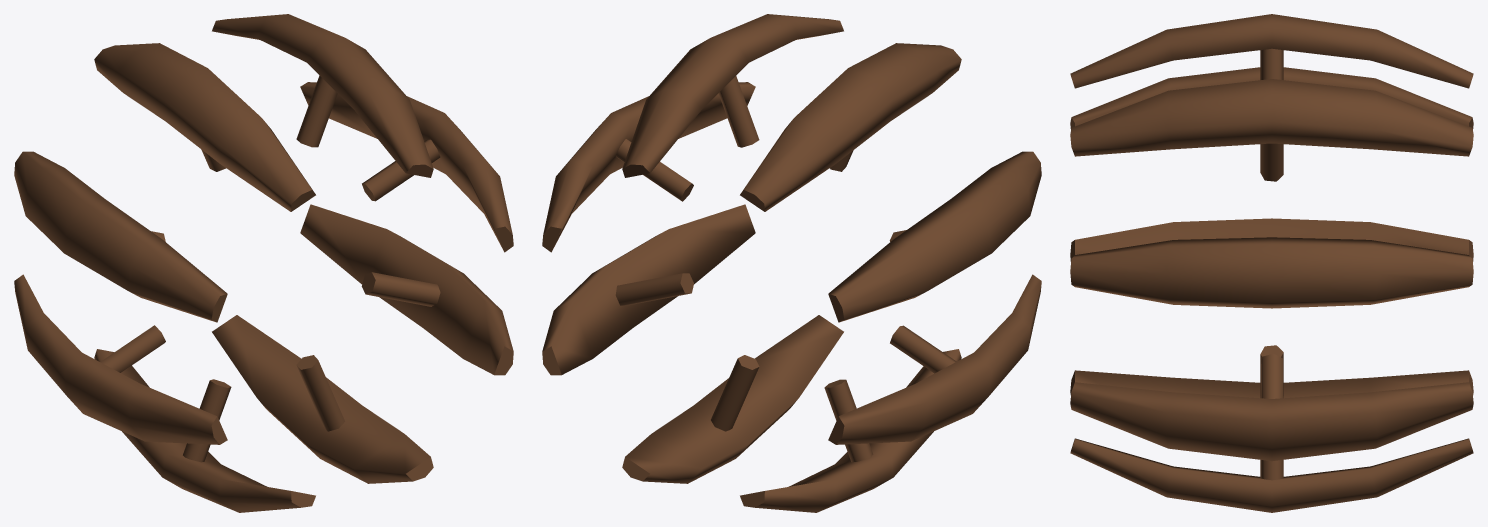
Rendered from k12_dampers.obj.
3 renders of one model, left to right at view 1: azimuth 30°, elevation 25°; view 2: azimuth 150°, elevation 25°; view 3: azimuth 270°, elevation 25°, orthographic.
Parts seen in each view (by area): view 1: k12_dampers; view 2: k12_dampers; view 3: k12_dampers.
Part boxes in pixels (left/top/right/bottom): k12_dampers: left=14, top=14, right=513, bottom=512; k12_dampers: left=542, top=14, right=1041, bottom=512; k12_dampers: left=1070, top=14, right=1473, bottom=512.
Bounding box in the file's own units: 3.13 × 3.13 × 2.7.
